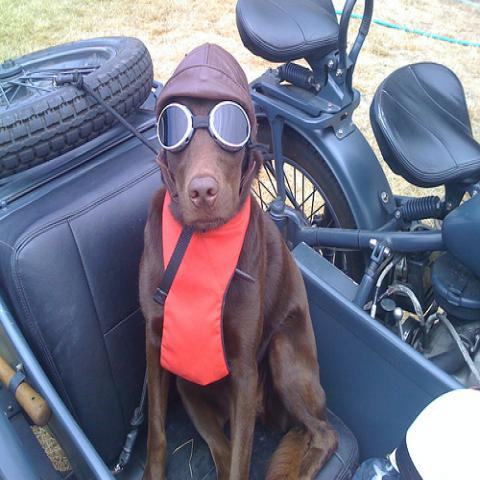motorcycle: (235, 0, 479, 394)
